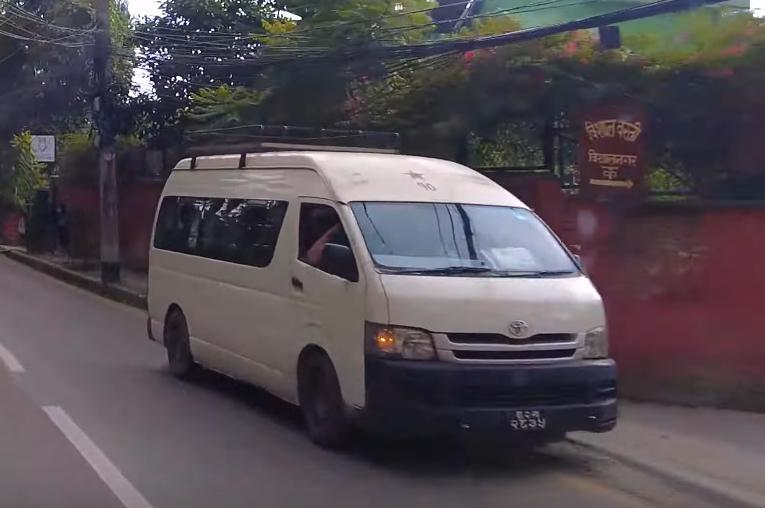micro_bus: (140, 132, 625, 463)
